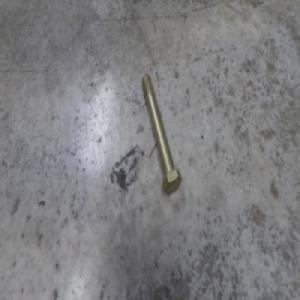Bolt: (140, 72, 181, 194)
